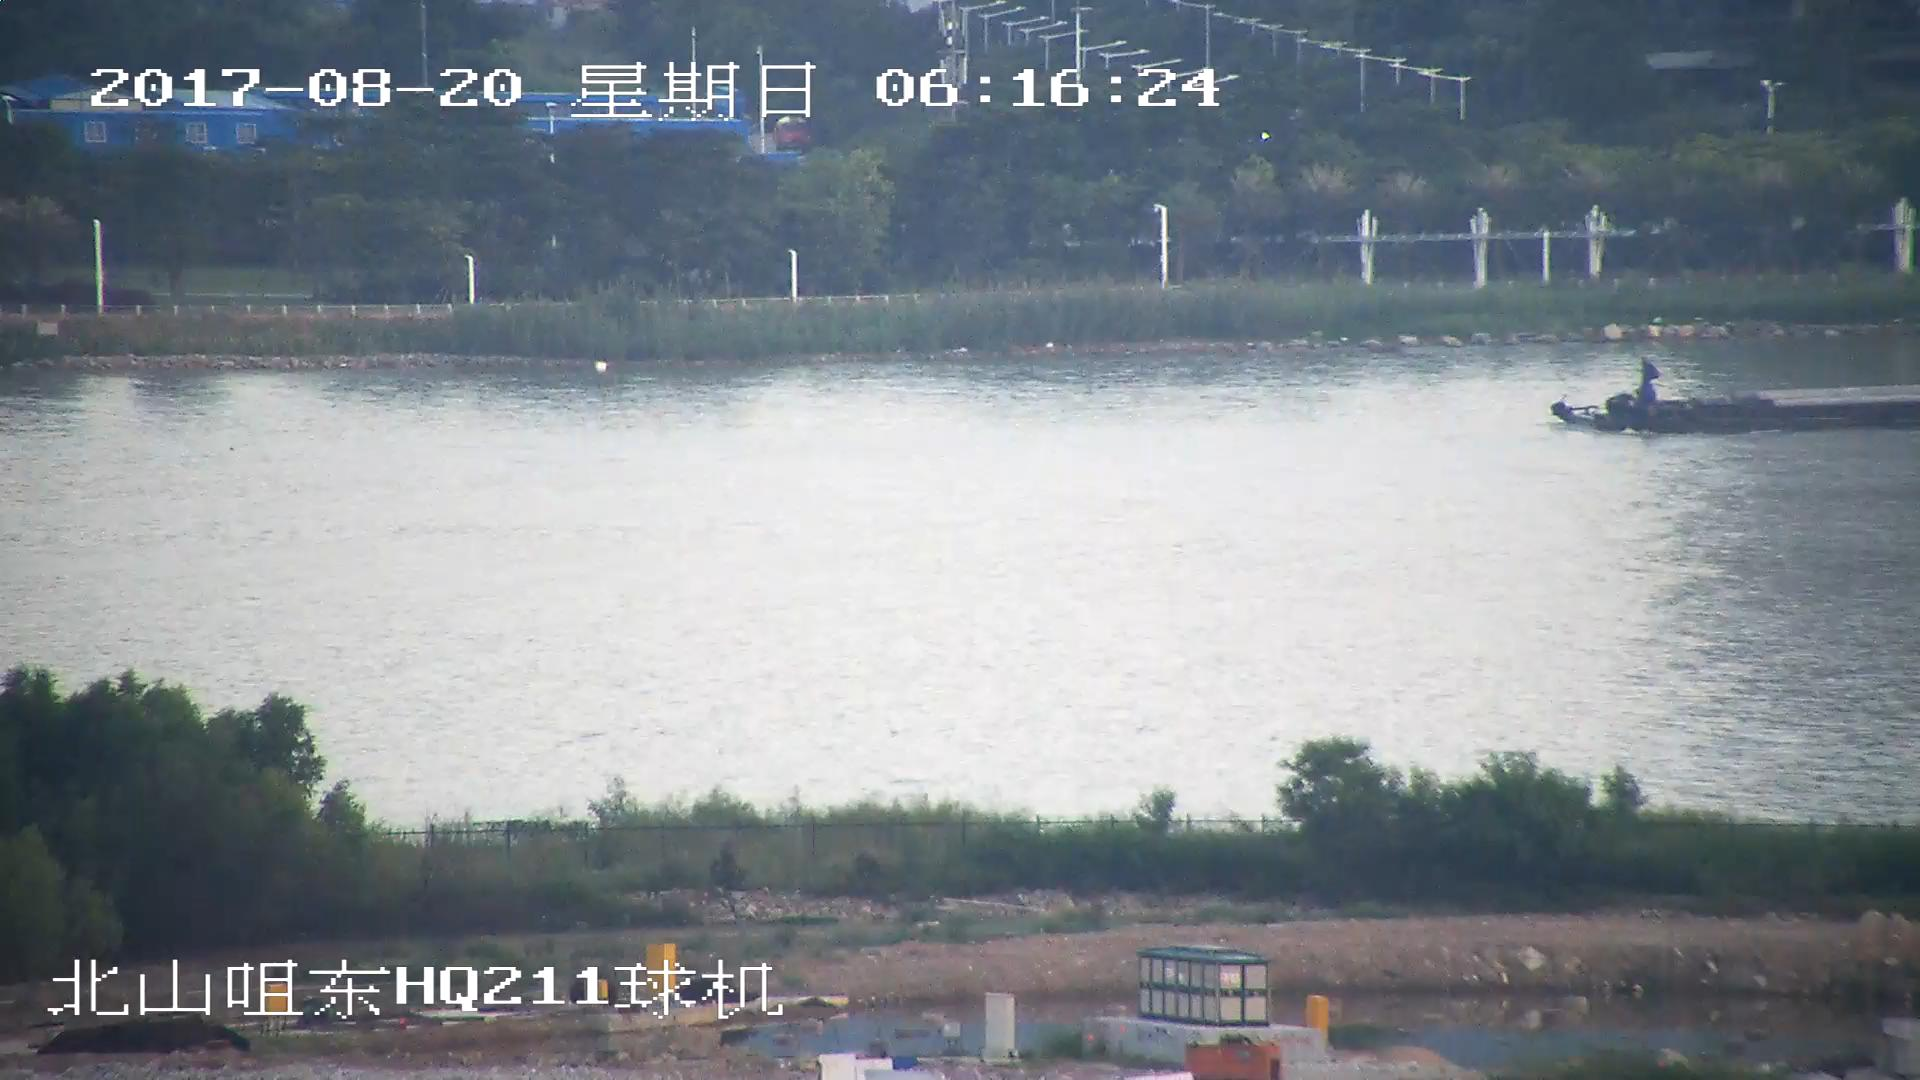bulk cargo carrier: (1555, 367, 1920, 430)
